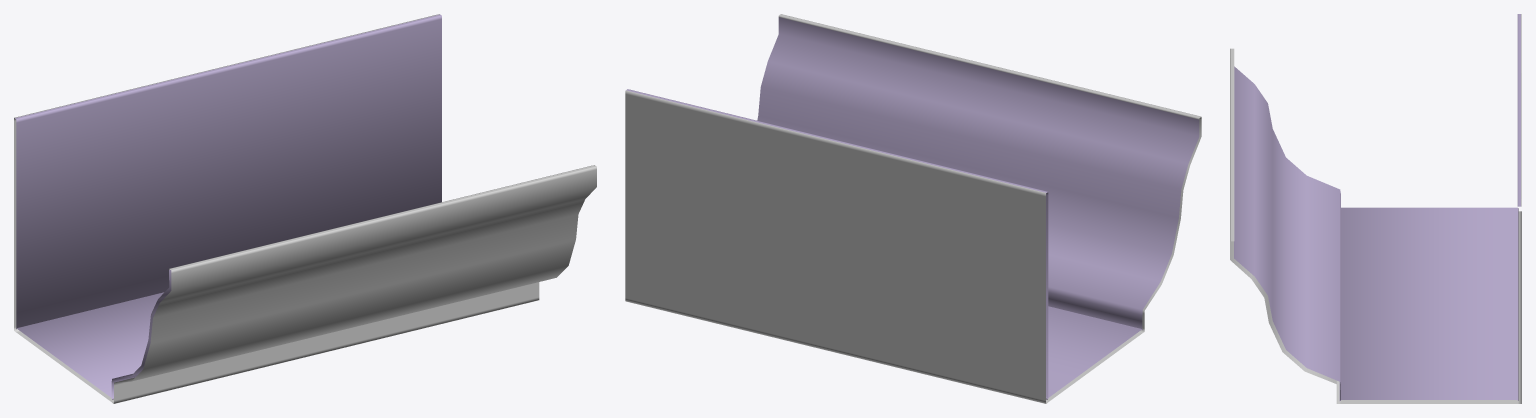
Rendered from EaveLength.fbx.
3 views of the same model, side by side, from view 1: azimuth 30°, elevation 25°; view 2: azimuth 150°, elevation 25°; view 3: azimuth 270°, elevation 25° (orthographic). The views are drawn at different scales.
Parts seen in each view (by area): view 1: Eave_LOD0; view 2: Eave_LOD0; view 3: Eave_LOD0.
Part boxes in pixels (x1,y1,x2,y2): Eave_LOD0: [14, 14, 596, 403]; Eave_LOD0: [625, 14, 1201, 403]; Eave_LOD0: [1230, 14, 1521, 403].
Size of what is drawn, in the model's own units: 72.12 by 34.5 by 46.19.
